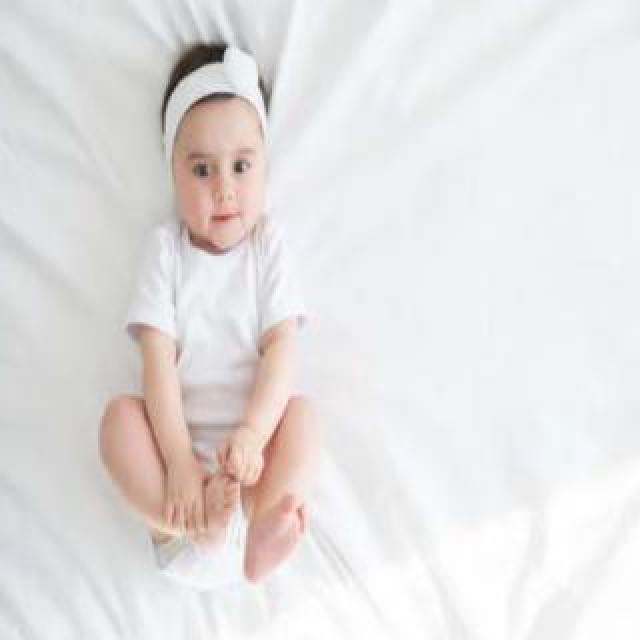baby: (99, 45, 323, 587)
